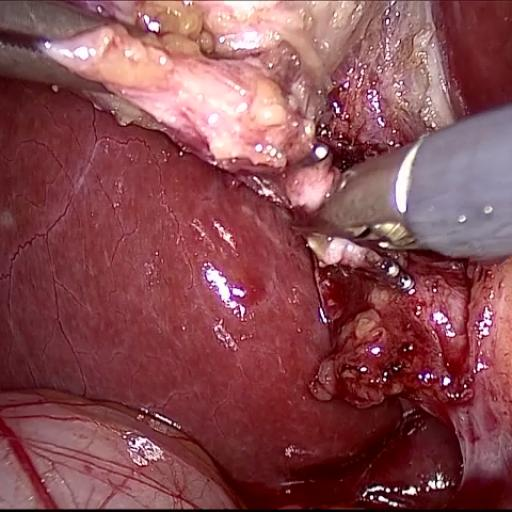Grasper: (259, 109, 512, 300), (0, 3, 219, 147)
